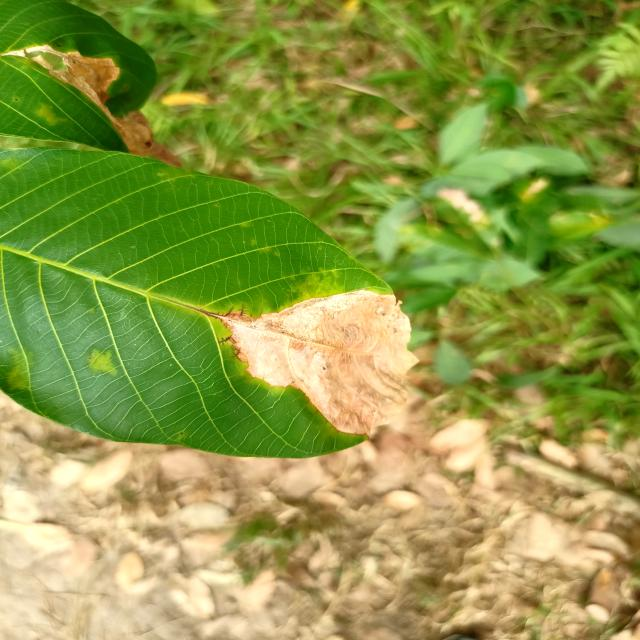Colletotrichum: (15, 99, 18, 101)
Corynespora: (194, 308, 223, 320), (230, 346, 242, 360), (238, 303, 248, 316), (218, 336, 231, 346), (226, 306, 234, 316)
Leaf-Blight: (220, 288, 420, 439), (2, 45, 119, 104), (93, 104, 184, 169)
